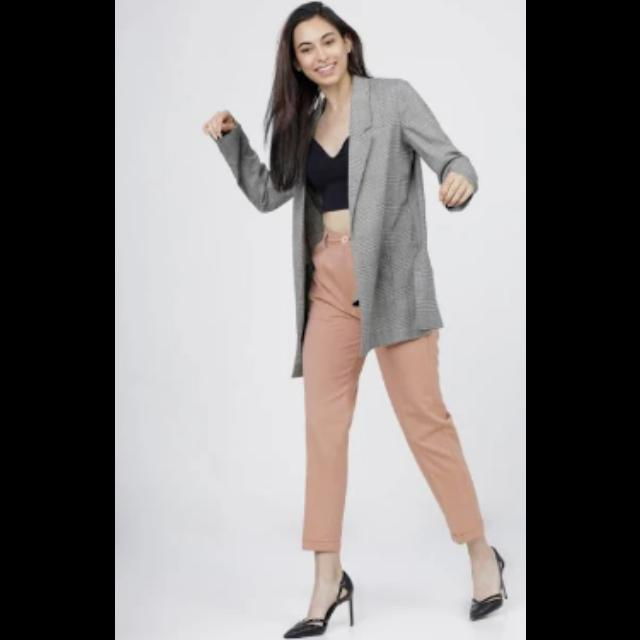bottom: (308, 230, 444, 540)
shoes: (287, 570, 353, 640), (458, 557, 506, 621)
